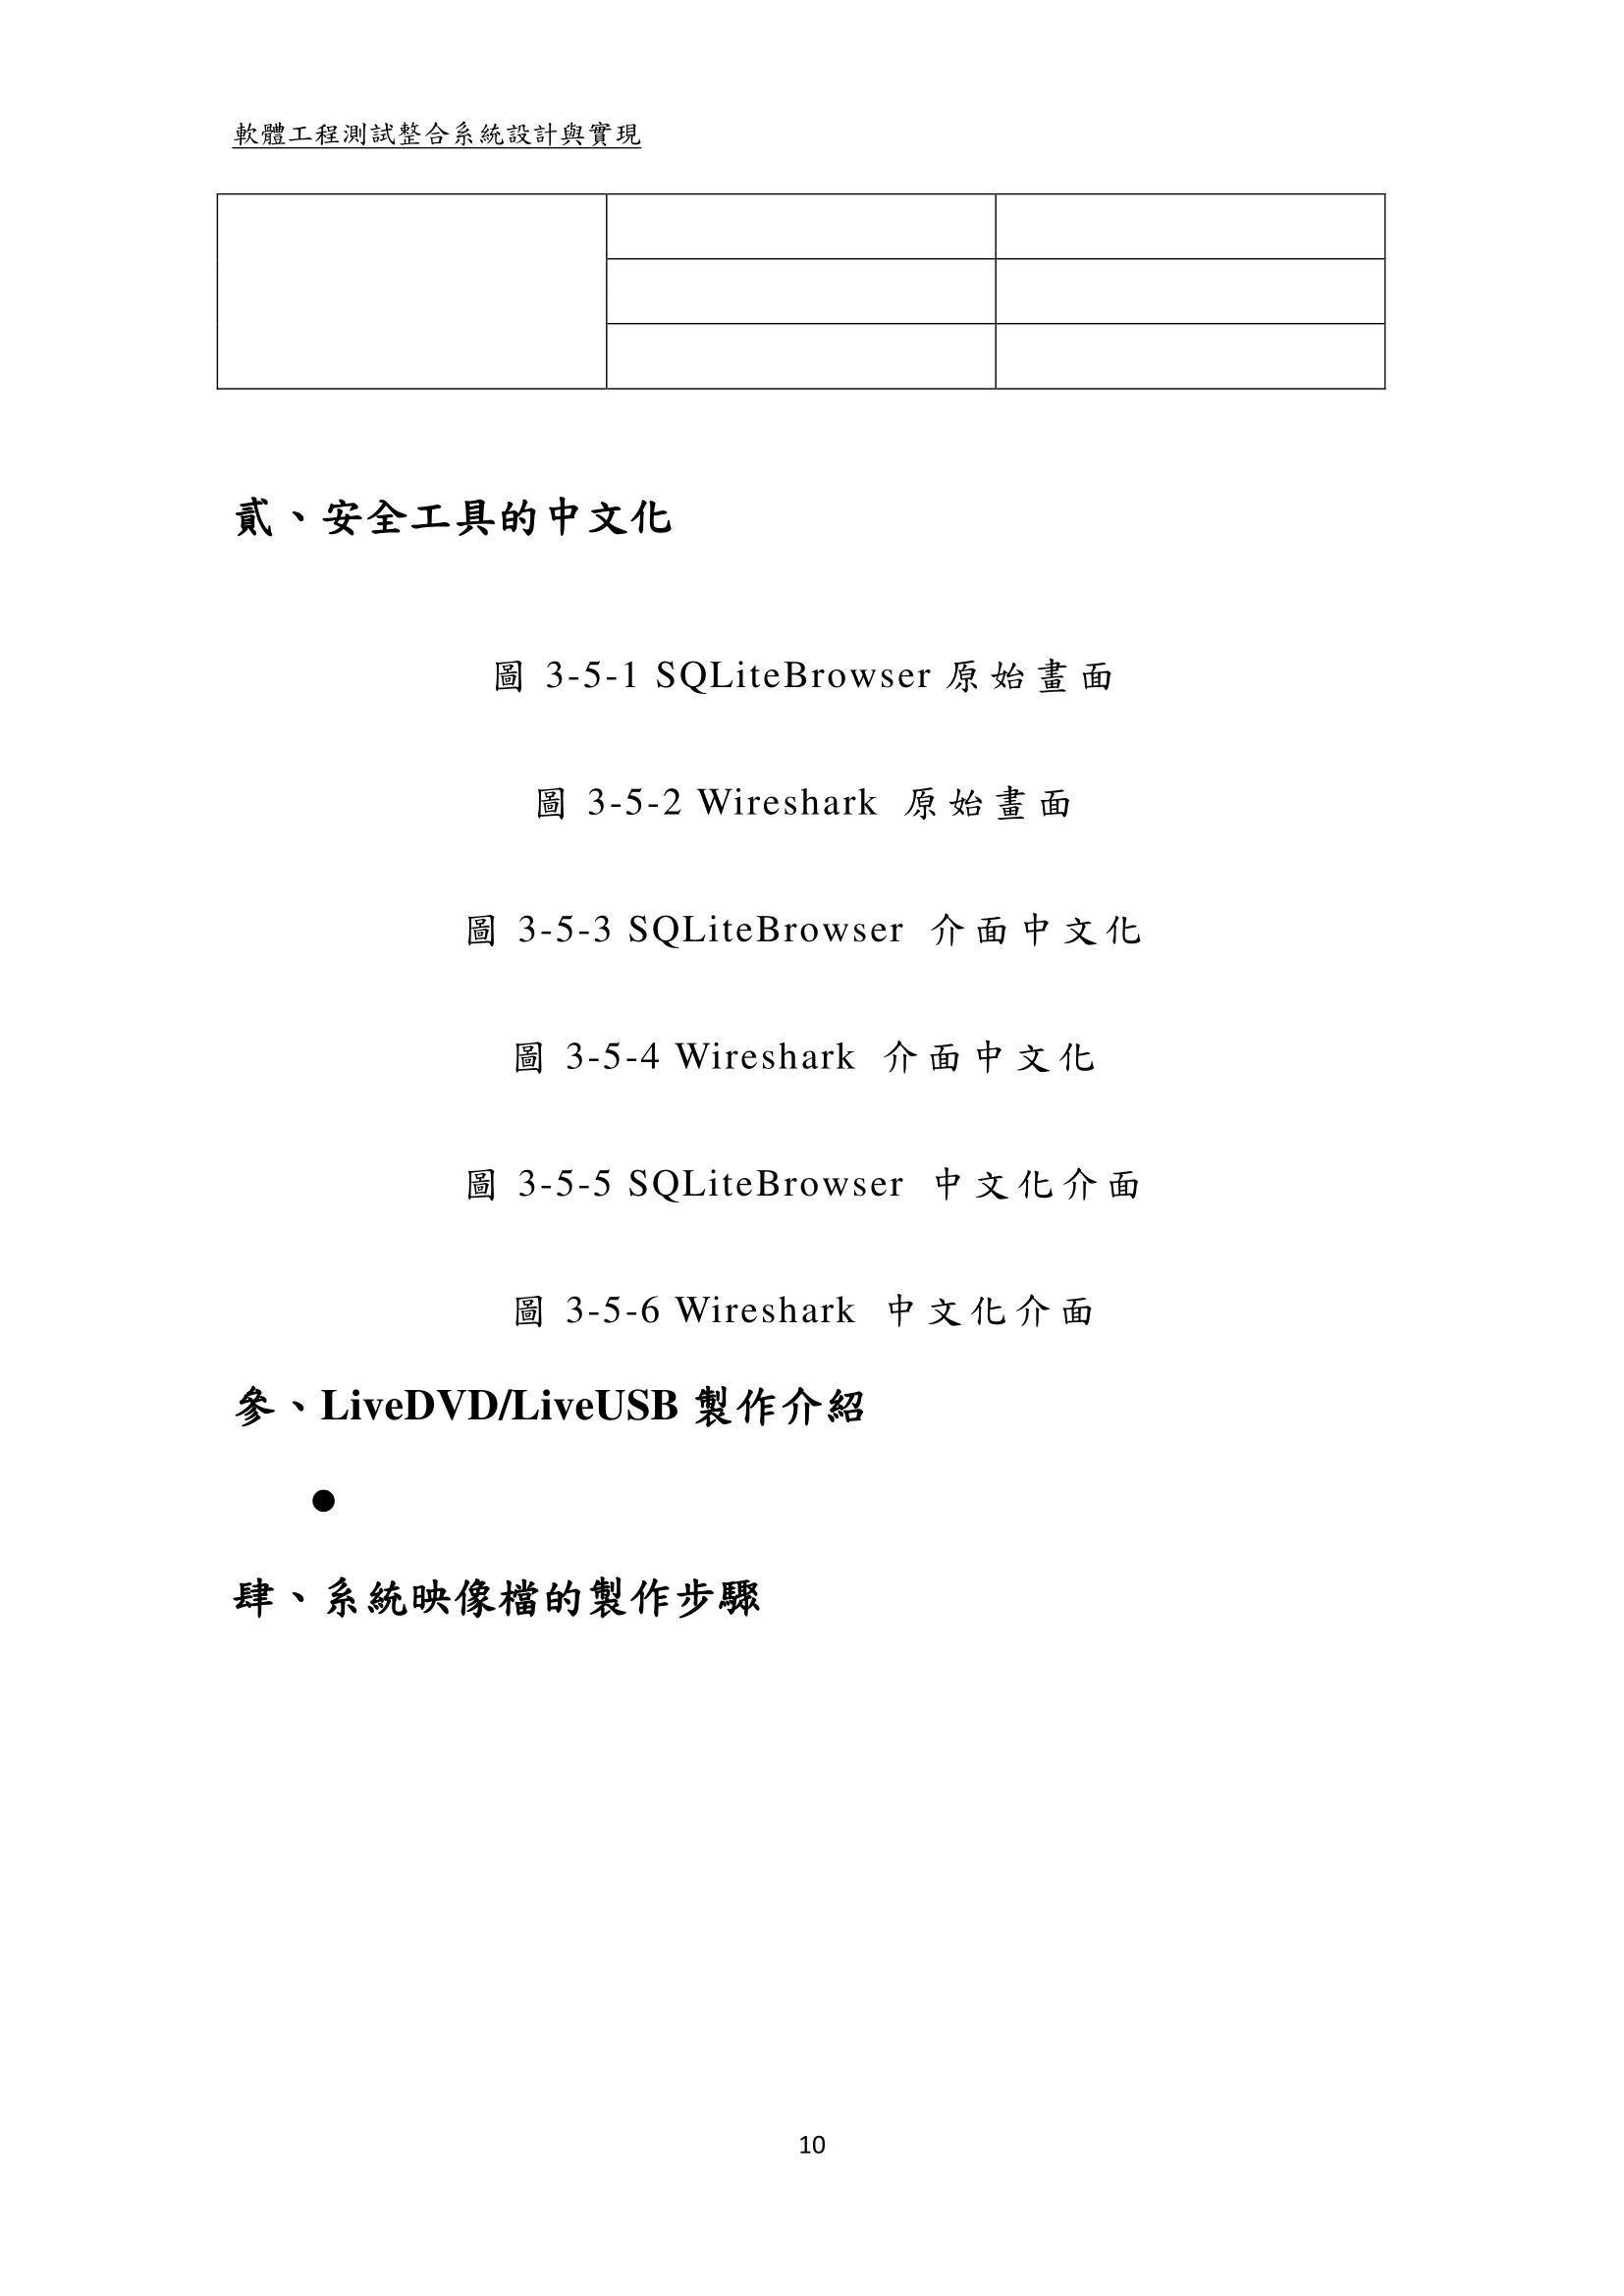table: (181, 172, 1411, 420)
text: (455, 629, 1141, 722), (445, 1142, 1160, 1221), (216, 1377, 889, 1455), (446, 898, 1162, 970), (513, 761, 1098, 841), (216, 480, 701, 569), (492, 1029, 1121, 1098), (202, 1562, 786, 1635), (492, 1281, 1134, 1346), (216, 112, 657, 162)
